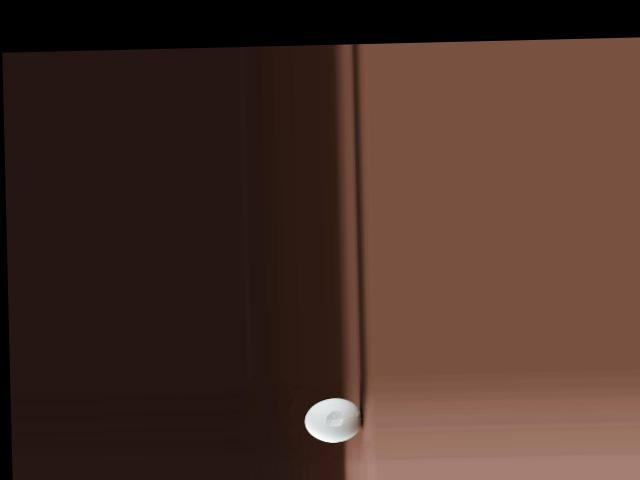egg: (303, 397, 362, 443)
